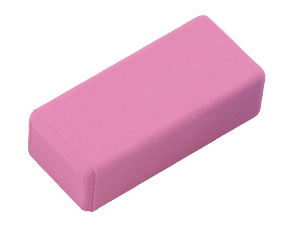eraser: (22, 13, 268, 214)
